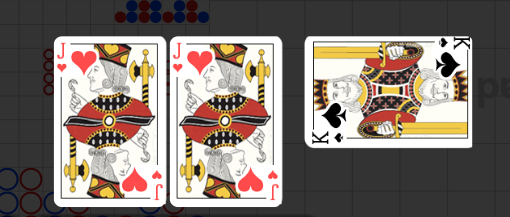JH: (171, 42, 184, 74), (55, 42, 68, 74)
KS: (436, 36, 471, 51)
